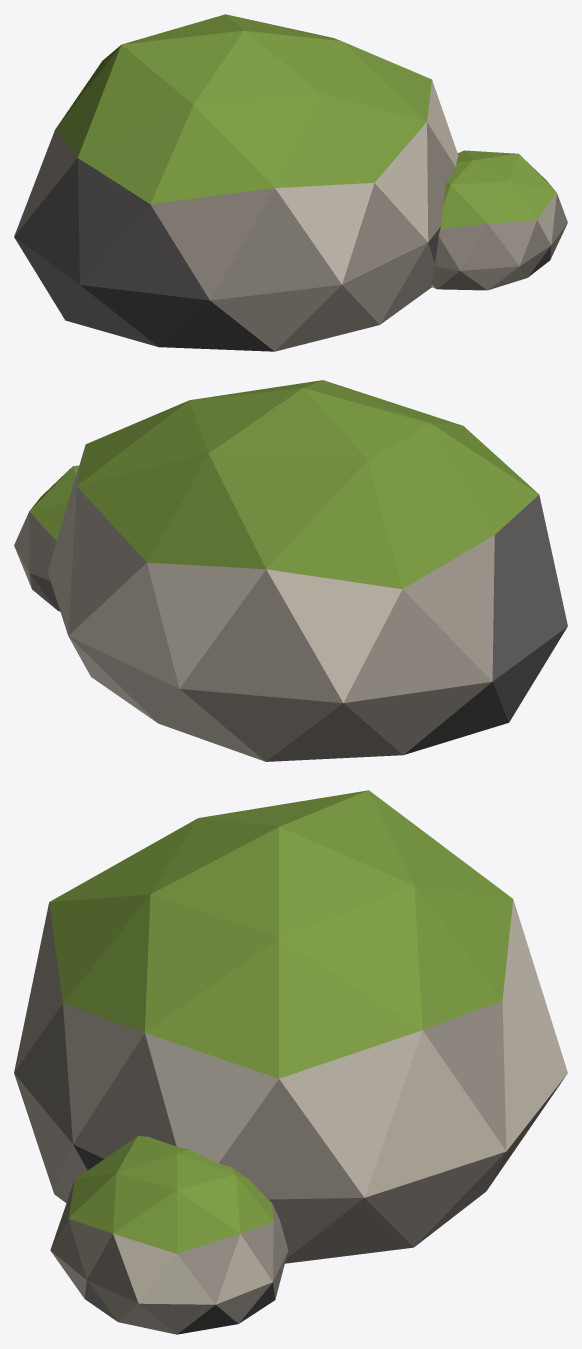
Rendered from Boulder_Round.fbx.
3 renders of one model, top to bottom at view 1: azimuth 30°, elevation 25°; view 2: azimuth 150°, elevation 25°; view 3: azimuth 270°, elevation 25°, orthographic. The views are drawn at different scales.
Parts seen in each view (by area): view 1: Boulder_Round; view 2: Boulder_Round; view 3: Boulder_Round.
Part boxes in pixels (x1,y1,x2,y2): Boulder_Round: [14, 14, 567, 351]; Boulder_Round: [14, 380, 567, 761]; Boulder_Round: [14, 790, 567, 1334].
Bounding box in the file's own units: 4.31 × 2.15 × 3.25.
